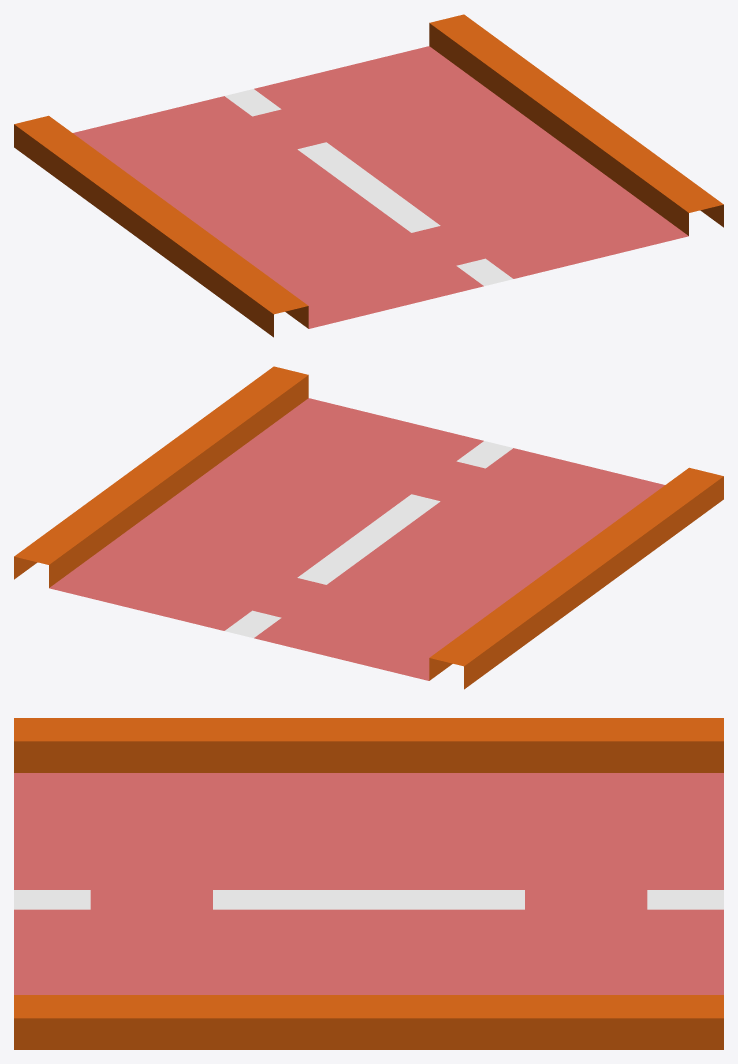
File: bicycle road.fbx
3 views of the same model, one above another, from view 1: azimuth 30°, elevation 25°; view 2: azimuth 150°, elevation 25°; view 3: azimuth 270°, elevation 25° (orthographic). The views are drawn at different scales.
Visible parts, largest first — view 1: Plane.037; view 2: Plane.037; view 3: Plane.037.
Part boxes in pixels (x1,y1,x2,y2): Plane.037: (14,14,723,337); Plane.037: (14,366,723,689); Plane.037: (14,718,723,1049).
Bounding box in the file's own units: 200 × 9.84 × 200.
